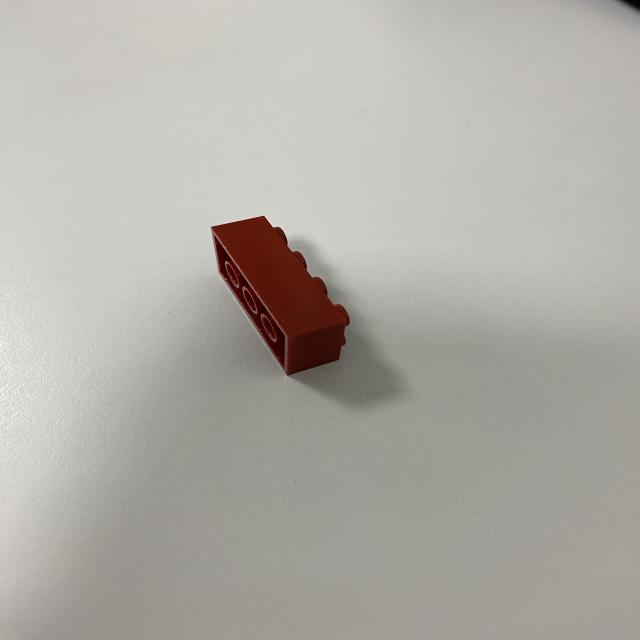C4x2x1: (214, 212, 354, 386), (289, 329, 353, 380)
